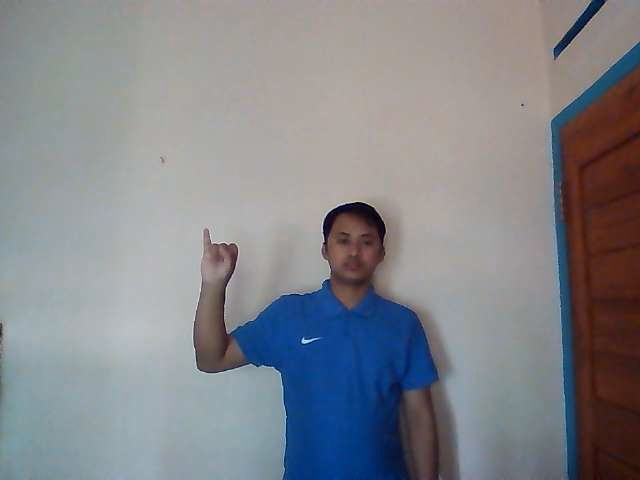I: (200, 228, 238, 285)
